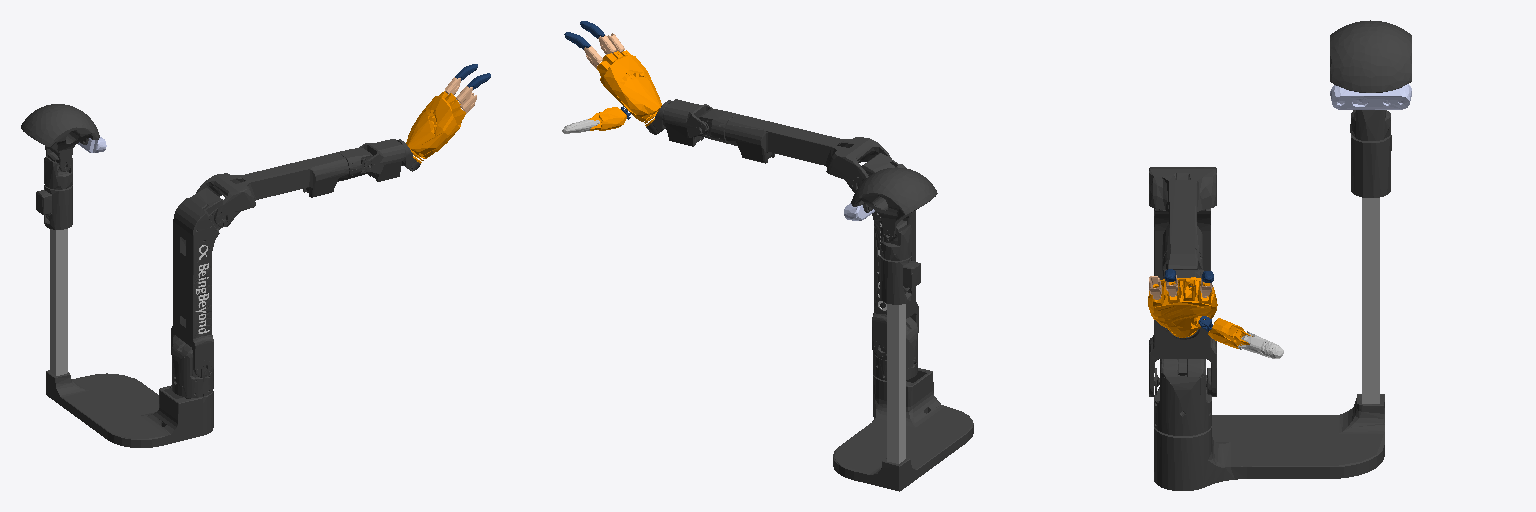
--- Render facts (derived) ---
3 views of the same robot in one strip: view 1: azimuth 30°, elevation 25°; view 2: azimuth 150°, elevation 25°; view 3: azimuth 270°, elevation 25° (orthographic).
Model being_arm with 34 links and 33 joints (17 revolute, 16 fixed), rooted at link_base, posed every joint at zero.
Visible links, largest first — view 1: link_base, link_1, link_2, link_head_pitch, stick, hand_base_link, link_0, link_4, link_head_base, link_head_yaw, link_3; view 2: link_base, link_2, link_head_pitch, stick, hand_base_link, link_1, link_head_base, link_4, link_0, link_head_yaw, link_3, thumb_metacarpals; view 3: link_base, link_head_pitch, link_2, link_0, stick, link_1, hand_base_link, link_head_base, 435, link_head_yaw, link_3, thumb_metacarpals (+1 smaller).
Boxes of the visible links, x1,y1,x2,y2 form: link_base: [46, 370, 213, 447]; link_1: [171, 188, 225, 377]; link_2: [196, 152, 348, 227]; link_head_pitch: [21, 104, 99, 171]; stick: [50, 229, 67, 375]; hand_base_link: [406, 91, 465, 160]; link_0: [172, 339, 213, 398]; link_4: [359, 139, 405, 181]; link_head_base: [36, 185, 72, 229]; link_head_yaw: [44, 152, 72, 189]; link_3: [338, 147, 372, 179]; link_base: [833, 368, 973, 491]; link_2: [725, 114, 891, 192]; link_head_pitch: [851, 167, 937, 241]; stick: [887, 304, 905, 463]; hand_base_link: [597, 50, 661, 123]; link_1: [857, 153, 918, 359]; link_head_base: [880, 256, 920, 304]; link_4: [662, 99, 712, 146]; link_0: [873, 317, 917, 380]; link_head_yaw: [880, 220, 911, 260]; link_3: [699, 109, 736, 143]; thumb_metacarpals: [588, 107, 626, 130]; link_base: [1154, 394, 1384, 490]; link_head_pitch: [1330, 20, 1411, 92]; link_2: [1149, 167, 1216, 261]; link_0: [1154, 359, 1211, 435]; stick: [1362, 198, 1379, 403]; link_1: [1149, 167, 1216, 396]; hand_base_link: [1148, 277, 1217, 336]; link_head_base: [1351, 134, 1391, 197]; 435: [1330, 84, 1411, 109]; link_head_yaw: [1350, 110, 1390, 140]; link_3: [1162, 248, 1202, 270]; thumb_metacarpals: [1208, 318, 1252, 348].
Size in the robot's own frame: 0.6983 by 0.2883 by 0.489 metres.
Meshes: 26 distinct files referenced, 23 mesh visuals loaded (23 binary STL); not drawn: 3 (reference not matched to a file when rendering).

The robot description file, URDF, robot "being_arm":
<?xml version="1.0" ?>
<robot name="being_arm">
      <material name="black">
    <color rgba="0.0 0.0 0.0 1.0"/>
</material>
      <material name="blue">
        <color rgba="0.0 0.0 0.8 1.0"/>
      </material>
      <material name="green">
        <color rgba="0.0 0.8 0.0 1.0"/>
      </material>
      <material name="grey">
        <color rgba="0.2 0.2 0.2 1.0"/>
      </material>
      <material name="silver">
        <color rgba="0.9137254901960784 0.9137254901960784 0.8470588235294118 1.0"/>
      </material>
      <material name="orange">
        <color rgba="1.0 0.4235294117647059 0.0392156862745098 1.0"/>
      </material>
      <material name="brown">
        <color rgba="0.8705882352941177 0.8117647058823529 0.7647058823529411 1.0"/>
      </material>
      <material name="red">
        <color rgba="0.8 0.0 0.0 1.0"/>
      </material>
      <material name="glass">
        <color rgba="0.0 0.0 0.0 0.0"/>
      </material>
      <material name="white">
        <color rgba="1.0 1.0 1.0 1.0"/>
      </material>


    <!-- Link link_base -->
    <link name="link_base">
    <inertial>
      <origin xyz="-0.057972 0.0807602 0.0124294" rpy="0 0 0"/>
      <mass value="0.771746"/>
      <inertia ixx="0.00450482" ixy="0.000976835" ixz="-0.000135512" iyy="0.00160317" iyz="0.000224392" izz="0.00585408"/>
    </inertial>
    <!-- Part link_base -->
    <visual>
      <origin xyz="0 0 0" rpy="0 -0 0"/>
      <geometry>
        <mesh filename="meshes/link_base.stl"/>
      </geometry>
      <material name="link_base_material">
        <color rgba="0.301961 0.301961 0.301961 1.0"/>
      </material>
    </visual>
    <collision>
      <origin xyz="0 0 0" rpy="0 -0 0"/>
      <geometry>
        <mesh filename="meshes/link_base.stl"/>
      </geometry>
    </collision>
    </link>
    <!-- Link link_0 -->
    <link name="link_0">
    <inertial>
      <origin xyz="-1.75113e-05 0.00152343 0.0498521" rpy="0 0 0"/>
      <mass value="0.212021"/>
      <inertia ixx="0.000188669" ixy="2.00244e-08" ixz="9.7199e-07" iyy="0.000197707" iyz="7.73976e-07" izz="0.000119271"/>
    </inertial>
    <!-- Part link_0 -->
    <visual>
      <origin xyz="-3.9374e-18 1.14729e-18 -0.0528" rpy="-6.12323e-17 -6.07716e-64 0"/>
      <geometry>
        <mesh filename="meshes/link_0.stl"/>
      </geometry>
      <material name="link_0_material">
        <color rgba="0.301961 0.301961 0.301961 1.0"/>
      </material>
    </visual>
    <collision>
      <origin xyz="-3.9374e-18 1.14729e-18 -0.0528" rpy="-6.12323e-17 -6.07716e-64 0"/>
      <geometry>
        <mesh filename="meshes/link_0.stl"/>
      </geometry>
    </collision>
    </link>
    <!-- Link link_1 -->
    <link name="link_1">
    <inertial>
      <origin xyz="-0.146844 -0.00387233 -0.0304381" rpy="0 0 0"/>
      <mass value="0.579576"/>
      <inertia ixx="0.000357668" ixy="-0.000212022" ixz="2.97018e-05" iyy="0.00324826" iyz="5.20963e-06" izz="0.00314291"/>
    </inertial>
    <!-- Part link_1 -->
    <visual>
      <origin xyz="1.38778e-17 0.1177 -0.03095" rpy="1.5708 -0 0"/>
      <geometry>
        <mesh filename="meshes/link_1.stl"/>
      </geometry>
      <material name="link_1_material">
        <color rgba="0.301961 0.301961 0.301961 1.0"/>
      </material>
    </visual>
    <collision>
      <origin xyz="1.38778e-17 0.1177 -0.03095" rpy="1.5708 -0 0"/>
      <geometry>
        <mesh filename="meshes/link_1.stl"/>
      </geometry>
    </collision>
    </link>
    <!-- Link text -->
    <link name="text">
    <inertial>
      <origin xyz="0 0 0" rpy="0 0 0"/>
      <mass value="1e-09"/>
      <inertia ixx="1e-09" ixy="0" ixz="0" iyy="1e-09" iyz="0" izz="1e-09"/>
    </inertial>
    <!-- Part text -->
    <visual>
      <origin xyz="0.172593 -0.03105 0.119299" rpy="3.14159 2.64103e-30 -1.87695e-30"/>
      <geometry>
        <mesh filename="meshes/text.stl"/>
      </geometry>
      <material name="text_material">
        <color rgba="0.917647 0.917647 0.917647 1.0"/>
      </material>
    </visual>
    <collision>
      <origin xyz="0.172593 -0.03105 0.119299" rpy="3.14159 2.64103e-30 -1.87695e-30"/>
      <geometry>
        <mesh filename="meshes/text.stl"/>
      </geometry>
    </collision>
    </link>
    <!-- Joint from link_1 to text -->
    <joint name="fix_text" type="fixed">
    <origin xyz="-0.172593 -0.00159916 -0.0619" rpy="-1.5708 -0 0"/>
    <parent link="link_1"/>
    <child link="text"/>
    <axis xyz="0 0 1"/>
    <limit effort="10" velocity="10"/>
    </joint>
    <!-- Link link_2 -->
    <link name="link_2">
    <inertial>
      <origin xyz="0.106633 -0.0198783 -0.0309914" rpy="0 0 0"/>
      <mass value="0.312533"/>
      <inertia ixx="0.000139876" ixy="-1.6663e-05" ixz="-1.47753e-06" iyy="0.00161142" iyz="2.61433e-07" izz="0.00156205"/>
    </inertial>
    <!-- Part link_2 -->
    <visual>
      <origin xyz="0.24556 0.15389 -0.03095" rpy="1.5708 -0 0"/>
      <geometry>
        <mesh filename="meshes/link_2.stl"/>
      </geometry>
      <material name="link_2_material">
        <color rgba="0.301961 0.301961 0.301961 1.0"/>
      </material>
    </visual>
    <collision>
      <origin xyz="0.24556 0.15389 -0.03095" rpy="1.5708 -0 0"/>
      <geometry>
        <mesh filename="meshes/link_2.stl"/>
      </geometry>
    </collision>
    </link>
    <!-- Link link_3 -->
    <link name="link_3">
    <inertial>
      <origin xyz="0.000543997 -9.69644e-05 0.037208" rpy="0 0 0"/>
      <mass value="0.047351"/>
      <inertia ixx="1.97915e-05" ixy="2.50896e-08" ixz="-1.91741e-07" iyy="2.06919e-05" iyz="-9.62707e-08" izz="1.17395e-05"/>
    </inertial>
    <!-- Part link_3 -->
    <visual>
      <origin xyz="2.88137e-18 -0.17431 0.03869" rpy="-1.5708 -1.5708 0"/>
      <geometry>
        <mesh filename="meshes/link_3.stl"/>
      </geometry>
      <material name="link_3_material">
        <color rgba="0.301961 0.301961 0.301961 1.0"/>
      </material>
    </visual>
    <collision>
      <origin xyz="2.88137e-18 -0.17431 0.03869" rpy="-1.5708 -1.5708 0"/>
      <geometry>
        <mesh filename="meshes/link_3.stl"/>
      </geometry>
    </collision>
    </link>
    <!-- Link link_4 -->
    <link name="link_4">
    <inertial>
      <origin xyz="0.0370397 0.00371852 -0.0182974" rpy="0 0 0"/>
      <mass value="0.0779722"/>
      <inertia ixx="3.12457e-05" ixy="-9.34616e-07" ixz="-2.99817e-09" iyy="3.56458e-05" iyz="-8.35306e-11" izz="3.56733e-05"/>
    </inertial>
    <!-- Part link_4 -->
    <visual>
      <origin xyz="-0.02202 0.17431 -0.0183" rpy="1.5708 -1.22465e-16 -6.84228e-49"/>
      <geometry>
        <mesh filename="meshes/link_4.stl"/>
      </geometry>
      <material name="link_4_material">
        <color rgba="0.301961 0.301961 0.301961 1.0"/>
      </material>
    </visual>
    <collision>
      <origin xyz="-0.02202 0.17431 -0.0183" rpy="1.5708 -1.22465e-16 -6.84228e-49"/>
      <geometry>
        <mesh filename="meshes/link_4.stl"/>
      </geometry>
    </collision>
    </link>
    <!-- Link link_5 -->
    <link name="link_5">
    <inertial>
      <origin xyz="0.000164227 -0.0101843 0.0187785" rpy="0 0 0"/>
      <mass value="0.0306358"/>
      <inertia ixx="7.31775e-06" ixy="7.48261e-08" ixz="-8.80461e-09" iyy="5.97096e-06" iyz="2.47749e-06" izz="7.84109e-06"/>
    </inertial>
    <!-- Part link_5 -->
    <visual>
      <origin xyz="1.10339e-18 -0.17431 -0.07631" rpy="-1.5708 -1.5708 0"/>
      <geometry>
        <mesh filename="meshes/link_5.stl"/>
      </geometry>
      <material name="link_5_material">
        <color rgba="0.301961 0.301961 0.301961 1.0"/>
      </material>
    </visual>
    <collision>
      <origin xyz="1.10339e-18 -0.17431 -0.07631" rpy="-1.5708 -1.5708 0"/>
      <geometry>
        <mesh filename="meshes/link_5.stl"/>
      </geometry>
    </collision>
    </link>
    <!-- Link flange -->
    <link name="flange">
    <inertial>
      <origin xyz="6.93889e-18 -0.000682058 0.00137658" rpy="0 0 0"/>
      <mass value="0.0214987"/>
      <inertia ixx="1.79204e-06" ixy="1.32513e-37" ixz="-4.56577e-38" iyy="1.95662e-06" iyz="1.47984e-09" izz="3.70419e-06"/>
    </inertial>
    <!-- Part flange -->
    <visual>
      <origin xyz="0.0535044 0.0242491 -0.00461661" rpy="1.5708 -0 7.39557e-32"/>
      <geometry>
        <mesh filename="meshes/flange.stl"/>
      </geometry>
      <material name="flange_material">
        <color rgba="1 0.6 0 1.0"/>
      </material>
    </visual>
    <collision>
      <origin xyz="0.0535044 0.0242491 -0.00461661" rpy="1.5708 -0 7.39557e-32"/>
      <geometry>
        <mesh filename="meshes/flange.stl"/>
      </geometry>
    </collision>
    </link>
    <!-- Frame ee (dummy link + fixed joint) -->
    <link name="ee">
    <origin xyz="0 0 0" rpy="0 -0 0"/>
    <inertial>
      <origin xyz="0 0 0" rpy="0 0 0"/>
      <mass value="1e-9"/>
      <inertia ixx="0" ixy="0" ixz="0" iyy="0" iyz="0" izz="0"/>
    </inertial>
    </link>
    <joint name="ee_frame" type="fixed">
    <origin xyz="-9.84493e-19 -0.000739717 0.003" rpy="0 2.75538e-17 -1.5708"/>
    <parent link="flange"/>
    <child link="ee"/>
    <axis xyz="0 0 0"/>
    </joint>
    <!-- Joint from link_5 to flange -->
    <joint name="fix_flange" type="fixed">
    <origin xyz="2.66775e-17 -0.0140718 0.0311546" rpy="-0.785398 -1.08366e-14 1.10257e-14"/>
    <parent link="link_5"/>
    <child link="flange"/>
    <axis xyz="0 0 1"/>
    <limit effort="10" velocity="10"/>
    </joint>
    <!-- Joint from link_4 to link_5 -->
    <joint name="joint_6" type="revolute">
    <origin xyz="0.05429 -2.77556e-16 -0.0183" rpy="3.14159 -1.5708 0"/>
    <parent link="link_4"/>
    <child link="link_5"/>
    <axis xyz="0 0 1"/>
    <limit effort="10" velocity="10" lower="-2.61799" upper="2.61799"/>
    </joint>
    <!-- Joint from link_3 to link_4 -->
    <joint name="joint_5" type="revolute">
    <origin xyz="0.0187 0 0.06071" rpy="-3.14159 -1.5708 0"/>
    <parent link="link_3"/>
    <child link="link_4"/>
    <axis xyz="0 0 1"/>
    <limit effort="10" velocity="10" lower="-1.5708" upper="1.39626"/>
    </joint>
    <!-- Joint from link_2 to link_3 -->
    <joint name="joint_4" type="revolute">
    <origin xyz="0.20687 -0.0204202 -0.03095" rpy="3.14159 -1.5708 0"/>
    <parent link="link_2"/>
    <child link="link_3"/>
    <axis xyz="0 0 1"/>
    <limit effort="10" velocity="10" lower="-2.61799" upper="2.61799"/>
    </joint>
    <!-- Joint from link_1 to link_2 -->
    <joint name="joint_3" type="revolute">
    <origin xyz="-0.24556 -0.0361898 -3.46945e-18" rpy="-1.87695e-30 -2.64103e-30 -1.5708"/>
    <parent link="link_1"/>
    <child link="link_2"/>
    <axis xyz="0 0 1"/>
    <limit effort="10" velocity="10" lower="-1.22173" upper="1.5708"/>
    </joint>
    <!-- Joint from link_0 to link_1 -->
    <joint name="joint_2" type="revolute">
    <origin xyz="1.35144e-16 0.03095 0.0649" rpy="-1.5708 1.5708 0"/>
    <parent link="link_0"/>
    <child link="link_1"/>
    <axis xyz="0 0 1"/>
    <limit effort="10" velocity="10" lower="-1.5708" upper="1.5708"/>
    </joint>
    <!-- Joint from link_base to link_0 -->
    <joint name="joint_1" type="revolute">
    <origin xyz="3.63386e-18 -4.16876e-19 0.0528" rpy="6.12323e-17 2.58804e-63 -5.99904e-32"/>
    <parent link="link_base"/>
    <child link="link_0"/>
    <axis xyz="0 0 1"/>
    <limit effort="10" velocity="10" lower="-1.5708" upper="1.5708"/>
    </joint>

    <joint name="ee_to_hand" type="fixed">
    <origin xyz="0 0 0" rpy="0 0 0"/>
    <parent link="ee"/>
    <child link="hand_base_link"/>
    </joint>
    <!-- DexHand part -->
    <link name="hand_base_link">
    <inertial>
    <origin
    xyz="-0.00160320773490556 0.000358462699237561 0.0538002704027215"
    rpy="0 0 0" />
    <mass
    value="0.06740077960995" />
    <inertia
    ixx="5.22359941041901E-05"
    ixy="3.0391535852764E-07"
    ixz="3.88322215371643E-07"
    iyy="3.33473043513648E-05"
    iyz="-7.77555280794861E-07"
    izz="2.28342677422006E-05" />
    </inertial>
    <visual>
    <origin
    xyz="0 0 0"
    rpy="0 0 0" />
    <geometry>
    <mesh
      filename="./meshes/right_hand/hand_base_link.STL" />
    </geometry>
    <material
    name="">
    <color
      rgba="1 0.6 0 1" />
    </material>
    </visual>
    <collision>
    <origin
    xyz="0 0 0"
    rpy="0 0 0" />
    <geometry>
    <mesh
      filename="./meshes/right_hand/hand_base_link.STL" />
    </geometry>
    </collision>
    </link>


    <link name="thumb_metacarpals_base2">
        <inertial>
            <origin
                    xyz="0.00162795738393507 0.00276671978336815 -0.00184227725602707"
                    rpy="0 0 0"/>
            <mass
                    value="0.00138591070212997"/>
            <inertia
                    ixx="5.26294625624223E-08"
                    ixy="-3.9288013799604E-09"
                    ixz="2.43766268199571E-09"
                    iyy="4.82623724532942E-08"
                    iyz="3.71867754115443E-09"
                    izz="2.88555522060562E-08"/>
        </inertial>
        <visual>
            <origin
                    xyz="0 0 0"
                    rpy="0 0 0"/>
            <geometry>
                <mesh
                        filename="./meshes/right_hand/thumb_metacarpals_base2.STL"/>
            </geometry>
            <material
                    name="">
                <color
                        rgba="0.164705882352941 0.282352941176471 0.443137254901961 1"/>
            </material>
        </visual>
        <collision>
            <origin
                    xyz="0 0 0"
                    rpy="0 0 0"/>
            <geometry>
                <mesh
                        filename="./meshes/right_hand/thumb_metacarpals_base2.STL"/>
            </geometry>
        </collision>
    </link>
    <joint name="thumb_cmc_yaw"
            type="revolute">
        <origin
                xyz="0.011508 0.022975 0.032794"
                rpy="0 0 0"/>
        <parent
                link="hand_base_link"/>
        <child
                link="thumb_metacarpals_base2"/>
        <axis
                xyz="0 0 -1"/>
        <limit
                lower="0"
                upper="1.54"
                effort="100"
                velocity="1"/>
    </joint>
    <link name="thumb_metacarpals">
        <inertial>
            <origin
                    xyz="4.24920612856275E-05 -1.67885666835232E-05 0.0228341522590467"
                    rpy="0 0 0"/>
            <mass
                    value="0.0123381607727595"/>
            <inertia
                    ixx="1.10292488693766E-06"
                    ixy="-6.14241939151719E-10"
                    ixz="1.14233108676795E-07"
                    iyy="1.76757658485787E-06"
                    iyz="-4.24576599367025E-10"
                    izz="9.36348143657406E-07"/>
        </inertial>
        <visual>
            <origin
                    xyz="0 0 0"
                    rpy="0 0 0"/>
            <geometry>
                <mesh
                        filename="./meshes/right_hand/thumb_metacarpals.STL"/>
            </geometry>
            <material
                    name="">
                <color
                        rgba="1 0.6 0 1"/>
            </material>
        </visual>
        <collision>
            <origin
                    xyz="0 0 0"
                    rpy="0 0 0"/>
            <geometry>
                <mesh
                        filename="./meshes/right_hand/thumb_metacarpals.STL"/>
            </geometry>
        </collision>
    </link>
    <joint name="thumb_cmc_pitch"
            type="revolute">
        <origin
                xyz="0.0061649 0.010678 -0.004891"
                rpy="0 -1.1529 -2.0944"/>
        <parent
                link="thumb_metacarpals_base2"/>
        <child
                link="thumb_metacarpals"/>
        <axis
                xyz="0 1 0"/>
        <limit
                lower="0"
                upper="0.52"
                effort="100"
                velocity="1"/>
    </joint>
    <link name="thumb_distal">
        <inertial>
            <origin
                    xyz="-0.00413690727496815 -4.54842793429222E-07 0.0230097179163771"
                    rpy="0 0 0"/>
            <mass
                    value="0.00763302603723749"/>
            <inertia
                    ixx="1.30546842791578E-06"
                    ixy="-2.61617511029467E-12"
                    ixz="7.19030685242407E-08"
                    iyy="1.22457212713176E-06"
                    iyz="1.66931068485225E-11"
                    izz="2.7729897944409E-07"/>
        </inertial>
        <visual>
            <origin
                    xyz="0 0 0"
                    rpy="0 0 0"/>
            <geometry>
                <mesh
                        filename="./meshes/right_hand/thumb_distal.STL"/>
            </geometry>
            <material
                    name="">
                <color
                        rgba="0.792156862745098 0.792156862745098 0.792156862745098 1"/>
            </material>
        </visual>
        <collision>
            <origin
                    xyz="0 0 0"
                    rpy="0 0 0"/>
            <geometry>
                <mesh
                        filename="./meshes/right_hand/thumb_distal.STL"/>
            </geometry>
        </collision>
    </link>
    <joint name="thumb_ip"
            type="revolute">
        <origin
                xyz="0.0037776 0 0.045368"
                rpy="0 0 0"/>
        <parent
                link="thumb_metacarpals"/>
        <child
                link="thumb_distal"/>
        <axis
                xyz="0 1 0"/>
        <limit
                lower="0"
                upper="0.96"
                effort="100"
                velocity="1"/>
        <mimic
                joint="thumb_cmc_pitch"
                multiplier="1.83"
                offset="0"/>
    </joint>
    <link name="index_proximal">
        <inertial>
            <origin
                    xyz="-0.00208665596033792 -4.8964990644329E-06 0.0172736718900068"
                    rpy="0 0 0"/>
            <mass
                    value="0.00253178529301663"/>
            <inertia
                    ixx="2.65990159539482E-07"
                    ixy="-3.55165625722842E-11"
                    ixz="4.31046335852167E-08"
                    iyy="2.72915460277804E-07"
                    iyz="1.75935978708959E-10"
                    izz="8.56026306687528E-08"/>
        </inertial>
        <visual>
            <origin
                    xyz="0 0 0"
                    rpy="0 0 0"/>
            <geometry>
                <mesh
                        filename="./meshes/right_hand/index_proximal.STL"/>
            </geometry>
            <material
                    name="">
                <color
                        rgba="0.980392156862745 0.780392156862745 0.627450980392157 1"/>
            </material>
        </visual>
        <collision>
            <origin
                    xyz="0 0 0"
                    rpy="0 0 0"/>
            <geometry>
                <mesh
                        filename="./meshes/right_hand/index_proximal.STL"/>
            </geometry>
        </collision>
    </link>
    <joint name="index_mcp_pitch"
            type="revolute">
        <origin
                xyz="0.0024758 0.02419 0.098779"
                rpy="-0.05236 0 0"/>
        <parent
                link="hand_base_link"/>
        <child
                link="index_proximal"/>
        <axis
                xyz="0 1 0"/>
        <limit
                lower="0"
                upper="1.57"
                effort="100"
                velocity="1"/>
    </joint>
    <link name="index_distal">
        <inertial>
            <origin
                    xyz="0.00658940011630532 -4.59976557022623E-06 0.0194434136420913"
                    rpy="0 0 0"/>
            <mass
                    value="0.00376787129082313"/>
            <inertia
                    ixx="3.22116619426455E-07"
                    ixy="1.03152735699049E-11"
                    ixz="-1.14363506430985E-07"
                    iyy="3.65131844686317E-07"
                    iyz="-1.97263639269362E-10"
                    izz="1.24256890612907E-07"/>
        </inertial>
        <visual>
            <origin
                    xyz="0 0 0"
                    rpy="0 0 0"/>
            <geometry>
                <mesh
                        filename="./meshes/right_hand/index_distal.STL"/>
            </geometry>
            <material
                    name="">
                <color
                        rgba="0.164705882352941 0.282352941176471 0.443137254901961 1"/>
            </material>
        </visual>
        <collision>
            <origin
                    xyz="0 0 0"
                    rpy="0 0 0"/>
            <geometry>
                <mesh
                        filename="./meshes/right_hand/index_distal.STL"/>
            </geometry>
        </collision>
    </link>
    <joint name="index_dip"
            type="revolute">
        <origin
                xyz="-0.0052516 0 0.036625"
                rpy="0 0 0"/>
        <parent
                link="index_proximal"/>
        <child
                link="index_distal"/>
        <axis
                xyz="0 1 0"/>
        <limit
                lower="0"
                upper="1.4"
                effort="100"
                velocity="1"/>
        <mimic
                joint="index_mcp_pitch"
                multiplier="0.89"
                offset="0"/>
    </joint>
    <link name="middle_proximal">
        <inertial>
            <origin
                    xyz="-0.00208661081773556 -4.93451838476378E-06 0.0172736805321904"
                    rpy="0 0 0"/>
            <mass
                    value="0.00253175497594429"/>
            <inertia
                    ixx="2.65989683690695E-07"
                    ixy="-3.58343951791586E-11"
                    ixz="4.31048601085216E-08"
                    iyy="2.72915006047006E-07"
                    iyz="1.75718024412593E-10"
                    izz="8.56020467202518E-08"/>
        </inertial>
        <visual>
            <origin
                    xyz="0 0 0"
                    rpy="0 0 0"/>
            <geometry>
                <mesh
                        filename="./meshes/right_hand/middle_proximal.STL"/>
            </geometry>
            <material
                    name="">
                <color
                        rgba="0.164705882352941 0.282352941176471 0.443137254901961 1"/>
            </material>
        </visual>
        <collision>
            <origin
                    xyz="0 0 0"
                    rpy="0 0 0"/>
            <geometry>
                <mesh
                        filename="./meshes/right_hand/middle_proximal.STL"/>
            </geometry>
        </collision>
    </link>
    <joint name="middle_mcp_pitch"
            type="revolute">
        <origin
                xyz="0.00052576 0.00634 0.1027"
                rpy="0 0 0"/>
        <parent
                link="hand_base_link"/>
        <child
                link="middle_proximal"/>
        <axis
                xyz="0 1 0"/>
        <limit
                lower="0"
                upper="1.57"
                effort="100"
                velocity="1"/>
    </joint>
    <link name="middle_distal">
        <inertial>
            <origin
                    xyz="0.00658940304809306 -4.5885743593238E-06 0.0194434523296449"
                    rpy="0 0 0"/>
            <mass
                    value="0.00376786259758948"/>
            <inertia
                    ixx="3.221153658306E-07"
                    ixy="1.02639617308432E-11"
                    ixz="-1.14363547272711E-07"
                    iyy="3.65130723083104E-07"
                    iyz="-1.96904618797577E-10"
                    izz="1.24256787913797E-07"/>
        </inertial>
        <visual>
            <origin
                    xyz="0 0 0"
                    rpy="0 0 0"/>
            <geometry>
                <mesh
                        filename="./meshes/right_hand/middle_distal.STL"/>
            </geometry>
            <material
                    name="">
                <color
                        rgba="0.164705882352941 0.282352941176471 0.443137254901961 1"/>
            </material>
        </visual>
        <collision>
            <origin
                    xyz="0 0 0"
                    rpy="0 0 0"/>
            <geometry>
                <mesh
                        filename="./meshes/right_hand/middle_distal.STL"/>
            </geometry>
        </collision>
    </link>
    <joint name="middle_dip"
            type="revolute">
        <origin
                xyz="-0.0052516 0 0.036625"
                rpy="0 0 0"/>
        <parent
                link="middle_proximal"/>
        <child
                link="middle_distal"/>
        <axis
                xyz="0 1 0"/>
        <limit
                lower="0"
                upper="1.4"
                effort="100"
                velocity="1"/>
        <mimic
                joint="middle_mcp_pitch"
                multiplier="0.89"
                offset="0"/>
    </joint>
    <link name="ring_proximal">
        <inertial>
            <origin
                    xyz="-0.00208654311325356 -4.98538564003281E-06 0.0172736743497407"
                    rpy="0 0 0"/>
            <mass
                    value="0.00253170963529411"/>
            <inertia
                    ixx="2.6598913795678E-07"
                    ixy="-3.62757108675266E-11"
                    ixz="4.31050611555507E-08"
                    iyy="2.72914417061517E-07"
                    iyz="1.75554984053478E-10"
                    izz="8.56012458677515E-08"/>
        </inertial>
        <visual>
            <origin
                    xyz="0 0 0"
                    rpy="0 0 0"/>
            <geometry>
                <mesh
                        filename="./meshes/right_hand/ring_proximal.STL"/>
            </geometry>
            <material
                    name="">
                <color
                        rgba="0.980392156862745 0.780392156862745 0.627450980392157 1"/>
            </material>
        </visual>
        <collision>
            <origin
                    xyz="0 0 0"
                    rpy="0 0 0"/>
            <geometry>
                <mesh
                        filename="./meshes/right_hand/ring_proximal.STL"/>
            </geometry>
        </collision>
    </link>
    <joint name="ring_mcp_pitch"
            type="revolute">
        <origin
                xyz="0.0010258 -0.011135 0.098767"
                rpy="0.05236 0 0"/>
        <parent
                link="hand_base_link"/>
        <child
                link="ring_proximal"/>
        <axis
                xyz="0 1 0"/>
        <limit
                lower="0"
                upper="1.57"
                effort="100"
                velocity="1"/>
    </joint>
    <link name="ring_distal">
        <inertial>
            <origin
                    xyz="0.00658940273069729 -4.56628863591824E-06 0.0194435005686854"
                    rpy="0 0 0"/>
            <mass
                    value="0.0037678395356105"/>
            <inertia
                    ixx="3.22112632437858E-07"
                    ixy="1.01848408913558E-11"
                    ixz="-1.1436348915342E-07"
                    iyy="3.65128262095686E-07"
                    iyz="-1.96145632992445E-10"
                    izz="1.24256284608064E-07"/>
        </inertial>
        <visual>
            <origin
                    xyz="0 0 0"
                    rpy="0 0 0"/>
            <geometry>
                <mesh
                        filename="./meshes/right_hand/ring_distal.STL"/>
            </geometry>
            <material
                    name="">
                <color
                        rgba="0.164705882352941 0.282352941176471 0.443137254901961 1"/>
            </material>
        </visual>
        <collision>
            <origin
                    xyz="0 0 0"
                    rpy="0 0 0"/>
            <geometry>
                <mesh
                        filename="./meshes/right_hand/ring_distal.STL"/>
            </geometry>
        </collision>
    </link>
    <joint name="ring_dip"
            type="revolute">
        <origin
                xyz="-0.0052516 0 0.036625"
                rpy="0 0 0"/>
        <parent
                link="ring_proximal"/>
        <child
                link="ring_distal"/>
        <axis
                xyz="0 1 0"/>
        <limit
                lower="0"
                upper="1.4"
                effort="100"
                velocity="1"/>
        <mimic
                joint="ring_mcp_pitch"
                multiplier="0.89"
                offset="0"/>
    </joint>
    <link name="pinky_proximal">
        <inertial>
            <origin
                    xyz="-0.00208649034130813 -5.02314582560837E-06 0.0172736680793697"
                    rpy="0 0 0"/>
            <mass
                    value="0.00253167400540778"/>
            <inertia
                    ixx="2.65988718820404E-07"
                    ixy="-3.66012295280295E-11"
                    ixz="4.31052220484445E-08"
                    iyy="2.72913936904813E-07"
                    iyz="1.75447396222308E-10"
                    izz="8.56006424720129E-08"/>
        </inertial>
        <visual>
            <origin
                    xyz="0 0 0"
                    rpy="0 0 0"/>
            <geometry>
                <mesh
                        filename="./meshes/right_hand/pinky_proximal.STL"/>
            </geometry>
            <material
                    name="">
                <color
                        rgba="0.980392156862745 0.780392156862745 0.627450980392157 1"/>
            </material>
        </visual>
        <collision>
            <origin
                    xyz="0 0 0"
                    rpy="0 0 0"/>
            <geometry>
                <mesh
                        filename="./meshes/right_hand/pinky_proximal.STL"/>
            </geometry>
        </collision>
    </link>
    <joint name="pinky_mcp_pitch"
            type="revolute">
        <origin
                xyz="0.0024758 -0.028372 0.092741"
                rpy="0.087266 0 0"/>
        <parent
                link="hand_base_link"/>
        <child
                link="pinky_proximal"/>
        <axis
                xyz="0 1 0"/>
        <limit
                lower="0"
                upper="1.57"
                effort="100"
                velocity="1"/>
    </joint>
    <link name="pinky_distal">
        <inertial>
            <origin
                    xyz="0.00658940431519205 -4.55268314210333E-06 0.0194435341098305"
                    rpy="0 0 0"/>
            <mass
                    value="0.00376782669873412"/>
            <inertia
                    ixx="3.22111112339498E-07"
                    ixy="1.01707985908333E-11"
                    ixz="-1.14363524419061E-07"
                    iyy="3.65126916899176E-07"
                    iyz="-1.95589215866356E-10"
                    izz="1.24256004854426E-07"/>
        </inertial>
        <visual>
            <origin
                    xyz="0 0 0"
                    rpy="0 0 0"/>
            <geometry>
                <mesh
                        filename="./meshes/right_hand/pinky_distal.STL"/>
            </geometry>
            <material
                    name="">
                <color
                        rgba="0.164705882352941 0.282352941176471 0.443137254901961 1"/>
            </material>
        </visual>
        <collision>
            <origin
                    xyz="0 0 0"
                    rpy="0 0 0"/>
            <geometry>
                <mesh
                        filename="./meshes/right_hand/pinky_distal.STL"/>
            </geometry>
        </collision>
    </link>
    <joint name="pinky_dip"
            type="revolute">
        <origin
                xyz="-0.0052516 0 0.036625"
                rpy="0 0 0"/>
        <parent
                link="pinky_proximal"/>
        <child
                link="pinky_distal"/>
        <axis
                xyz="0 1 0"/>
        <limit
                lower="0"
                upper="1.4"
                effort="100"
                velocity="1"/>
        <mimic
                joint="pinky_mcp_pitch"
                multiplier="0.89"
                offset="0"/>
    </joint>

    <!-- Fingertips -->
    <link name="thumb_tip"/>
    <joint name="thumb_tip_joint" type="fixed">
        <parent link="thumb_distal"/>
        <child link="thumb_tip"/>
        <origin xyz="-0.002 0 0.044" rpy="0 0 0"/>
    </joint>
    <link name="index_tip"/>
    <joint name="index_tip_joint" type="fixed">
        <parent link="index_distal"/>
        <child link="index_tip"/>
        <origin xyz="0.016 0 0.035" rpy="0 0 0"/>
    </joint>
    <link name="middle_tip"/>
    <joint name="middle_tip_joint" type="fixed">
        <parent link="middle_distal"/>
        <child link="middle_tip"/>
        <origin xyz="0.016 0 0.035" rpy="0 0 0"/>
    </joint>
    <link name="ring_tip"/>
    <joint name="ring_tip_joint" type="fixed">
        <parent link="ring_distal"/>
        <child link="ring_tip"/>
        <origin xyz="0.016 0 0.035" rpy="0 0 0"/>
    </joint>
    <link name="pinky_tip"/>
    <joint name="pinky_tip_joint" type="fixed">
        <parent link="pinky_distal"/>
        <child link="pinky_tip"/>
        <origin xyz="0.016 0 0.035" rpy="0 0 0"/>
    </joint>



    <!-- Link stick -->
    <link name="stick">
    <inertial>
      <origin xyz="0 0 0" rpy="0 0 0"/>
      <mass value="1e-09"/>
      <inertia ixx="1e-09" ixy="0" ixz="0" iyy="1e-09" iyz="0" izz="1e-09"/>
    </inertial>
    <!-- Part stick -->
    <visual>
      <origin xyz="0.12 0.205 0.0152" rpy="3.14159 -0 0"/>
      <geometry>
        <mesh filename="meshes/stick.stl"/>
      </geometry>
      <material name="stick_material">
        <color rgba="0.647059 0.647059 0.647059 1.0"/>
      </material>
    </visual>
    <collision>
      <origin xyz="0.12 0.205 0.0152" rpy="3.14159 -0 0"/>
      <geometry>
        <mesh filename="meshes/stick.stl"/>
      </geometry>
    </collision>
    </link>
    <!-- Link link_head_base -->
    <link name="link_head_base">
    <inertial>
      <origin xyz="-0.00095544 -7.83469e-05 0.0105199" rpy="0 0 0"/>
      <mass value="0.106069"/>
      <inertia ixx="5.53044e-05" ixy="-1.95213e-07" ixz="2.56988e-06" iyy="6.11635e-05" iyz="5.57566e-08" izz="3.77364e-05"/>
    </inertial>
    <!-- Part link_head_base -->
    <visual>
      <origin xyz="0.119641 -0.205 -0.3166" rpy="-6.12323e-17 -0 0"/>
      <geometry>
        <mesh filename="meshes/link_head_base.stl"/>
      </geometry>
      <material name="link_head_base_material">
        <color rgba="0.301961 0.301961 0.301961 1.0"/>
      </material>
    </visual>
    <collision>
      <origin xyz="0.119641 -0.205 -0.3166" rpy="-6.12323e-17 -0 0"/>
      <geometry>
        <mesh filename="meshes/link_head_base.stl"/>
      </geometry>
    </collision>
    </link>
    <!-- Link link_head_yaw -->
    <link name="link_head_yaw">
    <inertial>
      <origin xyz="-0.000129145 0.000326106 0.0259951" rpy="0 0 0"/>
      <mass value="0.0645621"/>
      <inertia ixx="2.05431e-05" ixy="-2.07706e-08" ixz="-4.38372e-08" iyy="2.24364e-05" iyz="2.66128e-09" izz="1.68662e-05"/>
    </inertial>
    <!-- Part link_head_yaw -->
    <visual>
      <origin xyz="0.1195 -0.205 -0.3544" rpy="-6.12323e-17 -2.63625e-33 0"/>
      <geometry>
        <mesh filename="meshes/link_head_yaw.stl"/>
      </geometry>
      <material name="link_head_yaw_material">
        <color rgba="0.301961 0.301961 0.301961 1.0"/>
      </material>
    </visual>
    <collision>
      <origin xyz="0.1195 -0.205 -0.3544" rpy="-6.12323e-17 -2.63625e-33 0"/>
      <geometry>
        <mesh filename="meshes/link_head_yaw.stl"/>
      </geometry>
    </collision>
    </link>
    <!-- Link link_head_pitch -->
    <link name="link_head_pitch">
    <inertial>
      <origin xyz="0.00363725 -0.0581404 -0.0184996" rpy="0 0 0"/>
      <mass value="0.352908"/>
      <inertia ixx="0.000258031" ixy="-1.63018e-05" ixz="-4.70718e-09" iyy="0.000409453" iyz="-2.89338e-09" izz="0.000343653"/>
    </inertial>
    <!-- Part link_head_pitch -->
    <visual>
      <origin xyz="0.1195 0.3997 -0.2235" rpy="1.5708 -1.2326e-32 -1.26539e-33"/>
      <geometry>
        <mesh filename="meshes/link_head_pitch.stl"/>
      </geometry>
      <material name="link_head_pitch_material">
        <color rgba="0.301961 0.301961 0.301961 1.0"/>
      </material>
    </visual>
    <collision>
      <origin xyz="0.1195 0.3997 -0.2235" rpy="1.5708 -1.2326e-32 -1.26539e-33"/>
      <geometry>
        <mesh filename="meshes/link_head_pitch.stl"/>
      </geometry>
    </collision>
    </link>
    <!-- Link 435 -->
    <link name="435">
    <inertial>
      <origin xyz="-6.29451e-05 -0.0236819 0.0119529" rpy="0 0 0"/>
      <mass value="0.338088"/>
      <inertia ixx="0.000212039" ixy="2.18533e-08" ixz="-9.33062e-09" iyy="3.05668e-05" iyz="-1.91704e-06" izz="0.000211023"/>
    </inertial>
    <!-- Part 435 -->
    <visual>
      <origin xyz="-0.395076 0.1825 0.192274" rpy="3.14159 -1.309 0"/>
      <geometry>
        <mesh filename="meshes/435.stl"/>
      </geometry>
      <material name="435_material">
        <color rgba="0.796078 0.823529 0.937255 1.0"/>
      </material>
    </visual>
    <collision>
      <origin xyz="-0.395076 0.1825 0.192274" rpy="3.14159 -1.309 0"/>
      <geometry>
        <mesh filename="meshes/435.stl"/>
      </geometry>
    </collision>
    </link>

    <!-- Frame camera (dummy link + fixed joint) -->
    <link name="camera">
    <origin xyz="0 0 0" rpy="0 -0 0"/>
    <inertial>
      <origin xyz="0 0 0" rpy="0 0 0"/>
      <mass value="1e-9"/>
      <inertia ixx="0" ixy="0" ixz="0" iyy="0" iyz="0" izz="0"/>
    </inertial>
    </link>
    <joint name="camera_frame" type="fixed">
    <origin xyz="5.55112e-17 -0.055 0.022" rpy="-8.77275e-18 1.58481e-17 1.5708"/>
    <parent link="435"/>
    <child link="camera"/>
    <axis xyz="0 0 0"/>
    </joint>
    <!-- Frame simulation (dummy link + fixed joint) -->
    <link name="simulation">
    <origin xyz="0 0 0" rpy="0 -0 0"/>
    <inertial>
      <origin xyz="0 0 0" rpy="0 0 0"/>
      <mass value="1e-9"/>
      <inertia ixx="0" ixy="0" ixz="0" iyy="0" iyz="0" izz="0"/>
    </inertial>
    </link>
    <joint name="simulation_frame" type="fixed">
    <origin xyz="5.55112e-17 -0.055 0.022" rpy="3.14159 -1.5708 0"/>
    <parent link="435"/>
    <child link="simulation"/>
    <axis xyz="0 0 0"/>
    </joint>
    <!-- Joint from link_head_pitch to 435 -->
    <joint name="fix_camera" type="fixed">
    <origin xyz="0.0360306 -0.0316783 -0.041" rpy="-1.5708 2.34193e-31 -1.309"/>
    <parent link="link_head_pitch"/>
    <child link="435"/>
    <axis xyz="0 0 1"/>
    <limit effort="10" velocity="10"/>
    </joint>
    <!-- Joint from link_head_yaw to link_head_pitch -->
    <joint name="joint_8_head_pitch" type="fixed">
    <origin xyz="0 0.0185 0.0453" rpy="-1.5708 -1.02875e-31 7.50661e-17"/>
    <parent link="link_head_yaw"/>
    <child link="link_head_pitch"/>
    <axis xyz="0 0 1"/>
    <limit effort="10" velocity="10" lower="-1.309" upper="1.309"/>
    </joint>
    <!-- Joint from link_head_base to link_head_yaw -->
    <joint name="joint_7_head_yaw" type="fixed">
    <origin xyz="0.000140992 -9.51529e-10 0.0378" rpy="-2.17296e-17 -5.55112e-17 -1.62301e-16"/>
    <parent link="link_head_base"/>
    <child link="link_head_yaw"/>
    <axis xyz="0 0 1"/>
    <limit effort="10" velocity="10" lower="-2.61799" upper="2.61799"/>
    </joint>
    <!-- Joint from link_base to link_head_base -->
    <joint name="fix_head_base" type="fixed">
    <origin xyz="-0.12 0.205 0.316" rpy="0 -0 0"/>
    <parent link="link_base"/>
    <child link="link_head_base"/>
    <axis xyz="0 0 1"/>
    <limit effort="10" velocity="10"/>
    </joint>
    <!-- Joint from link_base to stick -->
    <joint name="fix_stick" type="fixed">
    <origin xyz="-0.12 0.205 0.015" rpy="3.14159 -0 0"/>
    <parent link="link_base"/>
    <child link="stick"/>
    <axis xyz="0 0 1"/>
    <limit effort="10" velocity="10"/>
    </joint>
</robot>
